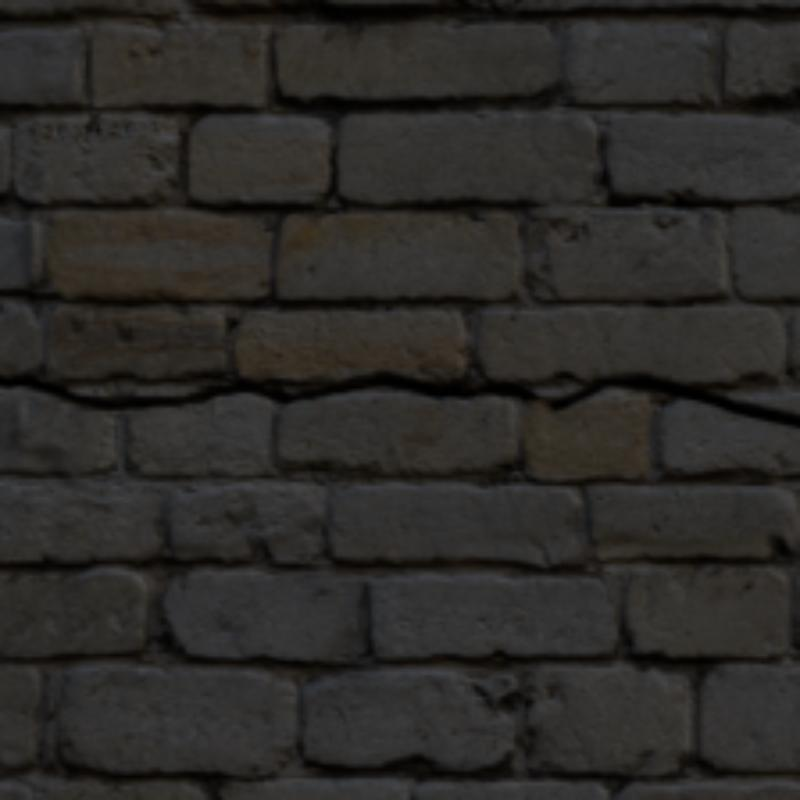pothole: (0, 371, 537, 407), (546, 375, 796, 425)
